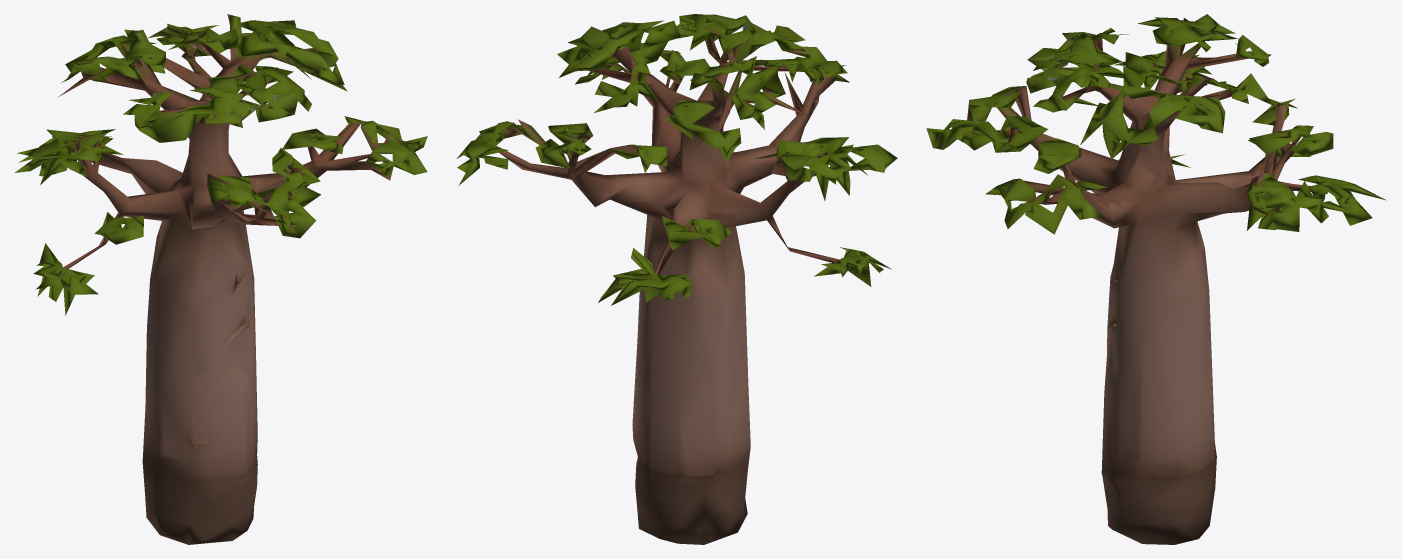
The model's file is 鐚撮潰鍖呮爲.glb.
3 renders of one model, left to right at view 1: azimuth 30°, elevation 25°; view 2: azimuth 150°, elevation 25°; view 3: azimuth 270°, elevation 25°, orthographic.
Visible parts, largest first — view 1: tripo_node_01c947a9-892d-47e3-ae6d-46bd09f492b8; view 2: tripo_node_01c947a9-892d-47e3-ae6d-46bd09f492b8; view 3: tripo_node_01c947a9-892d-47e3-ae6d-46bd09f492b8.
Part boxes in pixels (left/top/right/bottom): tripo_node_01c947a9-892d-47e3-ae6d-46bd09f492b8: left=15, top=14, right=427, bottom=544; tripo_node_01c947a9-892d-47e3-ae6d-46bd09f492b8: left=457, top=14, right=897, bottom=544; tripo_node_01c947a9-892d-47e3-ae6d-46bd09f492b8: left=926, top=14, right=1386, bottom=544.
Size of the model in its own units: 0.7469 by 1 by 0.8773.
Materials: 1 (1 with a texture image).
